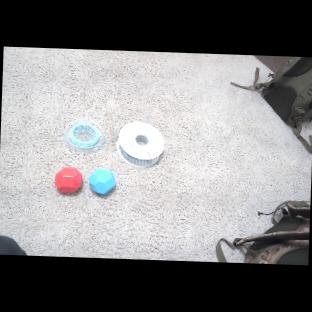V5_BLUE: (88, 167, 117, 196)
V5_RED: (54, 166, 83, 193)
